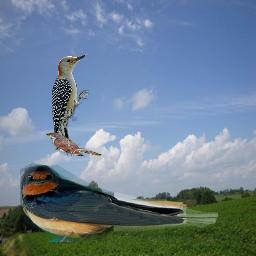Cuckoo: (45, 131, 102, 159)
Swallow: (16, 161, 218, 242)
Woodpecker: (52, 52, 90, 159)
